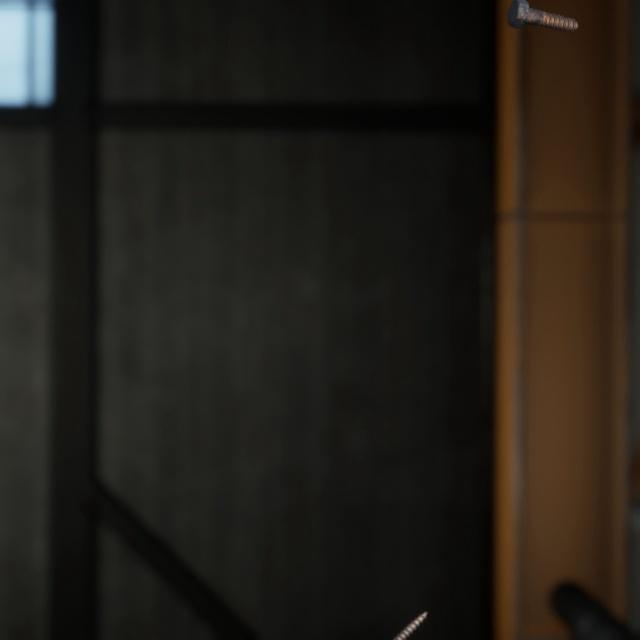bolt: (362, 584, 432, 640), (502, 0, 583, 30)
